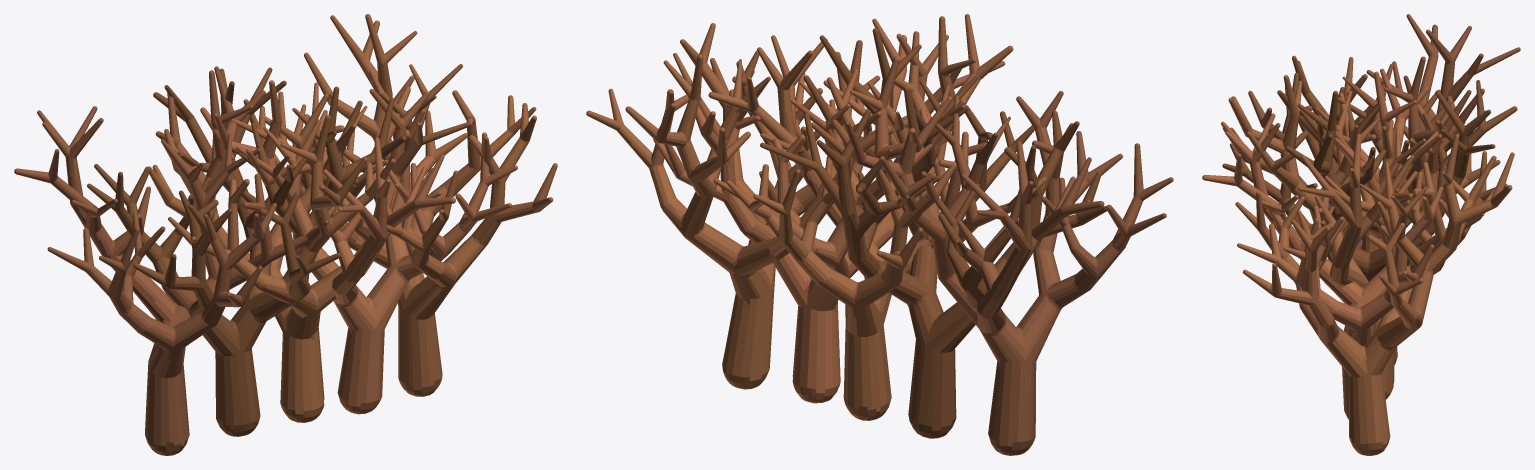
The model's file is treewall6.fbx.
The picture shows the model from 3 angles, left to right: view 1: azimuth 30°, elevation 25°; view 2: azimuth 150°, elevation 25°; view 3: azimuth 270°, elevation 25°; orthographic projection. The views are drawn at different scales.
Visible parts, largest first — view 1: ZSphere tree.003, ZSphere tree.000, ZSphere tree.002, ZSphere tree.004, ZSphere tree.001; view 2: ZSphere tree.003, ZSphere tree.000, ZSphere tree.001, ZSphere tree.004, ZSphere tree.002; view 3: ZSphere tree.004, ZSphere tree.002, ZSphere tree.001, ZSphere tree.000, ZSphere tree.003.
Part boxes in pixels (box(x1,y1,x2,y2)): ZSphere tree.003: box(14, 66, 335, 455); ZSphere tree.000: box(87, 67, 406, 436); ZSphere tree.002: box(200, 75, 517, 414); ZSphere tree.004: box(229, 14, 557, 396); ZSphere tree.001: box(149, 70, 472, 422); ZSphere tree.003: box(831, 85, 1173, 455); ZSphere tree.000: box(760, 28, 1106, 438); ZSphere tree.001: box(708, 14, 1046, 420); ZSphere tree.004: box(586, 23, 927, 389); ZSphere tree.002: box(653, 18, 1005, 403); ZSphere tree.004: box(1235, 119, 1514, 455); ZSphere tree.002: box(1202, 68, 1495, 419); ZSphere tree.001: box(1228, 75, 1507, 399); ZSphere tree.000: box(1222, 73, 1517, 364); ZSphere tree.003: box(1222, 14, 1520, 249).
Size of the model in its own units: 3686 by 2419 by 2201.
